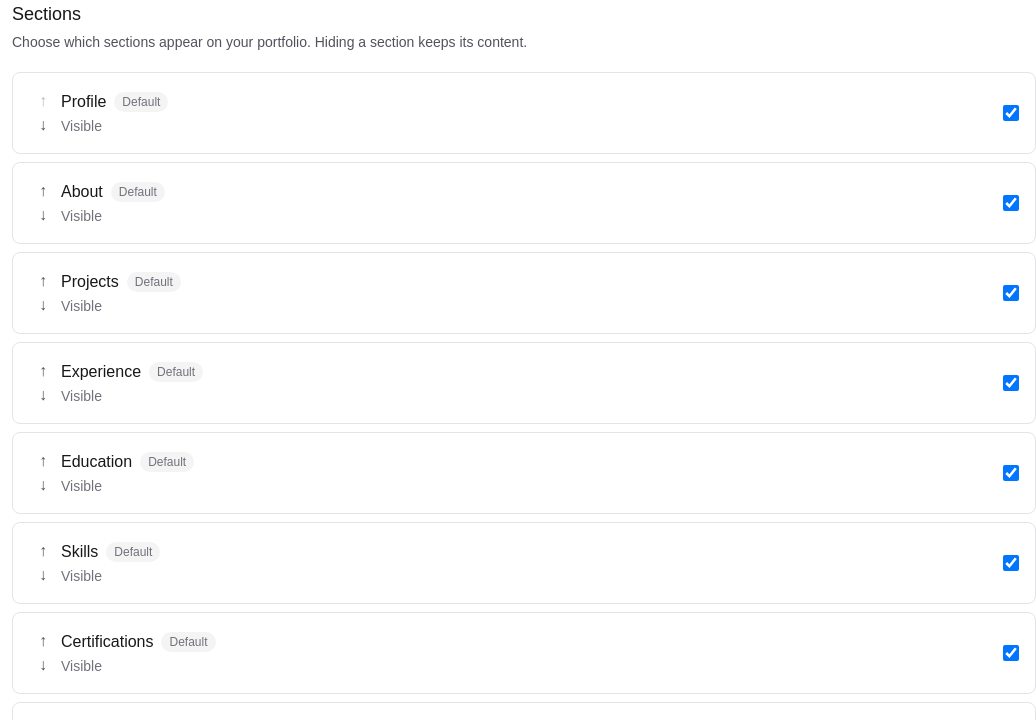
SectionsEditor › keeps local order and shows an error on reorder failure
This screenshot has width=1036, height=720.
Expected: the text "Profile" is shown, x1=61 y1=90 x2=106 y2=114
Click the button named "Move Profile down". click: click(43, 125)
box: x1=29 y1=113 x2=57 y2=137
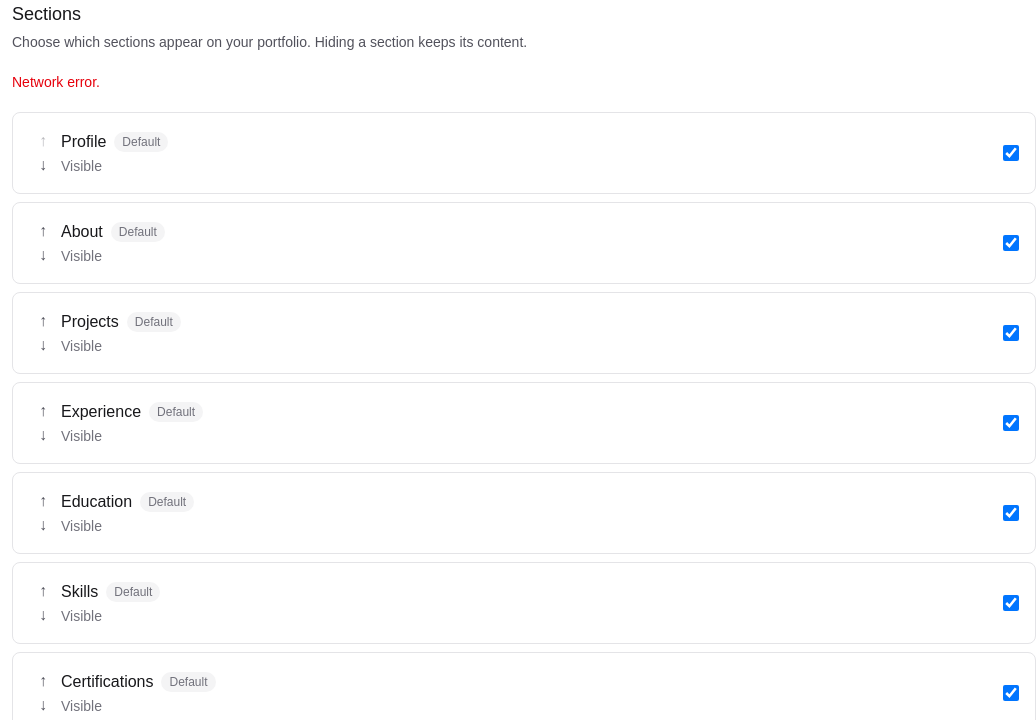
Expected: the text "Profile" is shown, x1=61 y1=130 x2=106 y2=154
Now the text "Network error." is shown, box x1=12 y1=74 x2=100 y2=90
